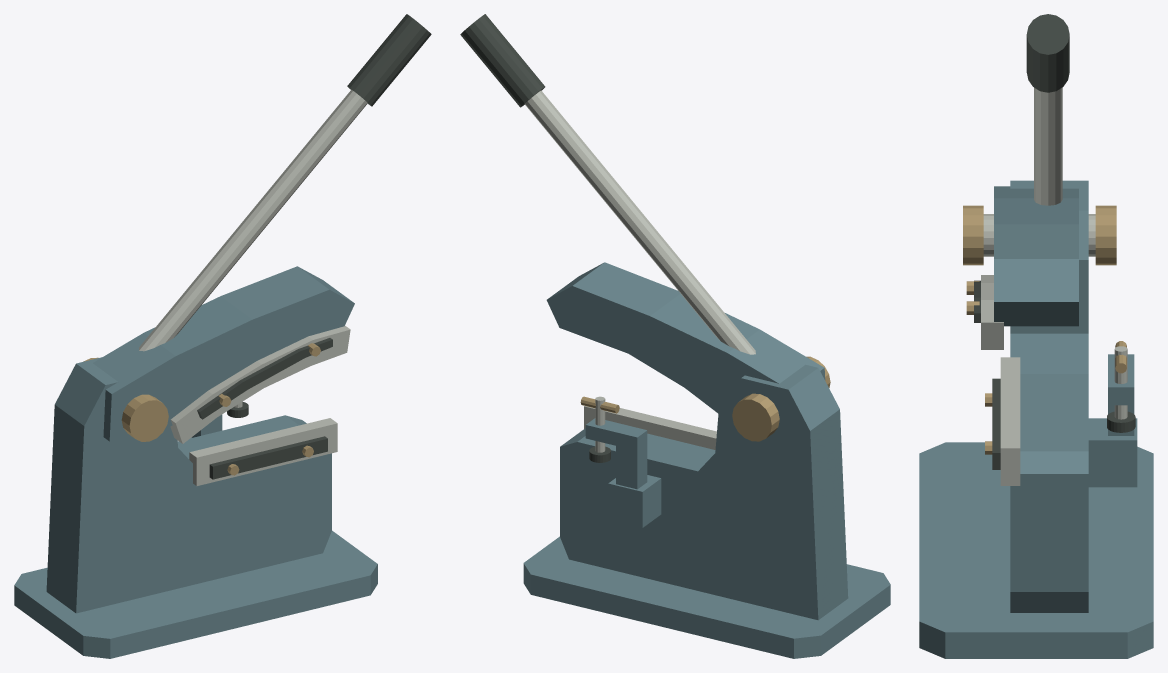
3 renders of one model, left to right at view 1: azimuth 30°, elevation 25°; view 2: azimuth 150°, elevation 25°; view 3: azimuth 270°, elevation 25°, orthographic. The views are drawn at different scales.
Parts seen in each view (by area): view 1: WholeLowAsymmetricPivotAndLowerJawFrame, WholeBroadChamferedGroundBase, WholeRaisedCurvedUpperBladeCarrier, WholeLongInclinedHandLever, WholeArchedUpperBluntBlade, WholeShortStraightLowerBluntBlade, WholeLongLeverEndGrip, WholeLowerBladeClampStrip, WholeProudPivotEndRetainer-1, WholeArchedUpperBladeClampStrip; view 2: WholeLowAsymmetricPivotAndLowerJawFrame, WholeBroadChamferedGroundBase, WholeRaisedCurvedUpperBladeCarrier, WholeLongInclinedHandLever, WholeLongLeverEndGrip, WholeRaisedSideHoldDownBracket, WholeSideHoldDownMount, WholeShortStraightLowerBluntBlade, WholeProudPivotEndRetainer1; view 3: WholeBroadChamferedGroundBase, WholeLowAsymmetricPivotAndLowerJawFrame, WholeRaisedCurvedUpperBladeCarrier, WholeLongInclinedHandLever, WholeLongLeverEndGrip, WholeSideHoldDownMount, WholeShortStraightLowerBluntBlade, WholeProudPivotEndRetainer1, WholeProudPivotEndRetainer-1, WholeRaisedSideHoldDownBracket, WholeArchedUpperBluntBlade, WholeLowerBladeClampStrip (+3 smaller).
Boxes of the visible parts, x1=… form: WholeLowAsymmetricPivotAndLowerJawFrame: x1=46, y1=357, x2=331, y2=613; WholeBroadChamferedGroundBase: x1=14, y1=530, x2=377, y2=658; WholeRaisedCurvedUpperBladeCarrier: x1=93, y1=266, x2=354, y2=447; WholeLongInclinedHandLever: x1=139, y1=89, x2=367, y2=351; WholeArchedUpperBluntBlade: x1=170, y1=325, x2=350, y2=443; WholeShortStraightLowerBluntBlade: x1=189, y1=418, x2=337, y2=485; WholeLongLeverEndGrip: x1=347, y1=14, x2=431, y2=106; WholeLowerBladeClampStrip: x1=209, y1=436, x2=327, y2=479; WholeProudPivotEndRetainer-1: x1=121, y1=394, x2=168, y2=441; WholeArchedUpperBladeClampStrip: x1=197, y1=338, x2=332, y2=419; WholeLowAsymmetricPivotAndLowerJawFrame: x1=560, y1=364, x2=848, y2=620; WholeBroadChamferedGroundBase: x1=523, y1=536, x2=890, y2=658; WholeRaisedCurvedUpperBladeCarrier: x1=546, y1=262, x2=825, y2=413; WholeLongInclinedHandLever: x1=525, y1=90, x2=755, y2=354; WholeLongLeverEndGrip: x1=460, y1=14, x2=545, y2=107; WholeRaisedSideHoldDownBracket: x1=585, y1=418, x2=647, y2=489; WholeSideHoldDownMount: x1=608, y1=475, x2=661, y2=527; WholeShortStraightLowerBluntBlade: x1=584, y1=406, x2=716, y2=449; WholeProudPivotEndRetainer1: x1=732, y1=393, x2=779, y2=441; WholeBroadChamferedGroundBase: x1=919, y1=442, x2=1153, y2=658; WholeLowAsymmetricPivotAndLowerJawFrame: x1=1010, y1=180, x2=1088, y2=612; WholeRaisedCurvedUpperBladeCarrier: x1=994, y1=186, x2=1078, y2=326; WholeLongInclinedHandLever: x1=1034, y1=87, x2=1062, y2=205; WholeLongLeverEndGrip: x1=1026, y1=14, x2=1069, y2=92; WholeSideHoldDownMount: x1=1088, y1=418, x2=1137, y2=487; WholeShortStraightLowerBluntBlade: x1=1000, y1=357, x2=1020, y2=485; WholeProudPivotEndRetainer1: x1=1095, y1=205, x2=1116, y2=265; WholeProudPivotEndRetainer-1: x1=963, y1=205, x2=983, y2=265; WholeRaisedSideHoldDownBracket: x1=1108, y1=354, x2=1134, y2=435; WholeArchedUpperBluntBlade: x1=981, y1=275, x2=1003, y2=349; WholeLowerBladeClampStrip: x1=992, y1=378, x2=1000, y2=469.
Bounding box in the file's own units: 0.9004 × 1.17 × 0.36.
